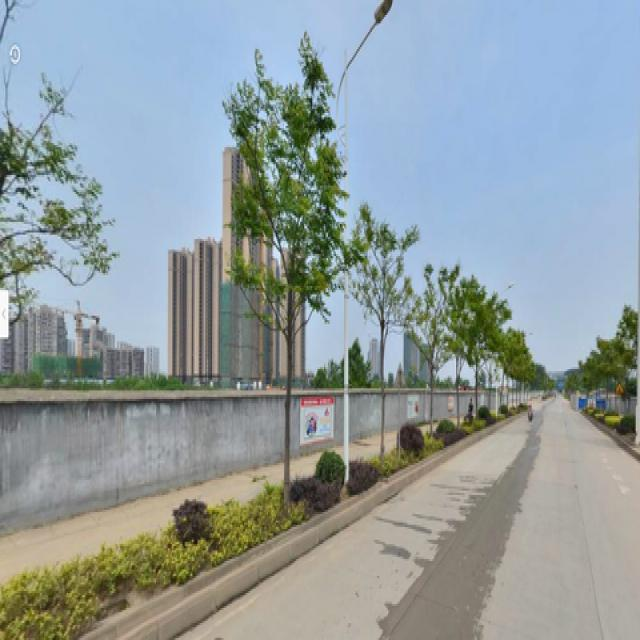koel: (217, 51, 332, 495)
